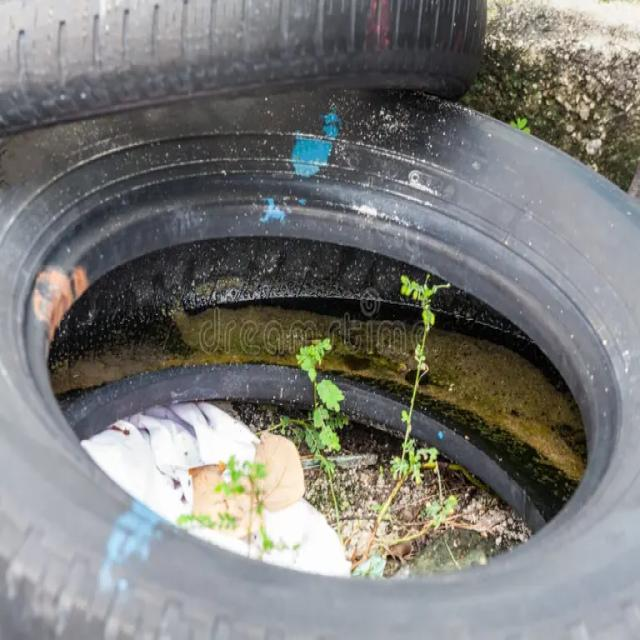tire: (1, 77, 638, 638)
